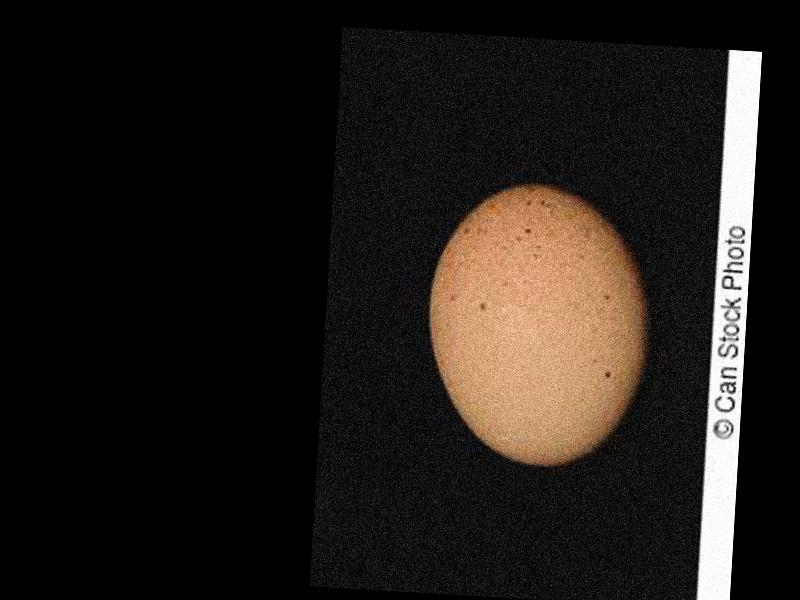Eggs: (421, 180, 658, 472)
